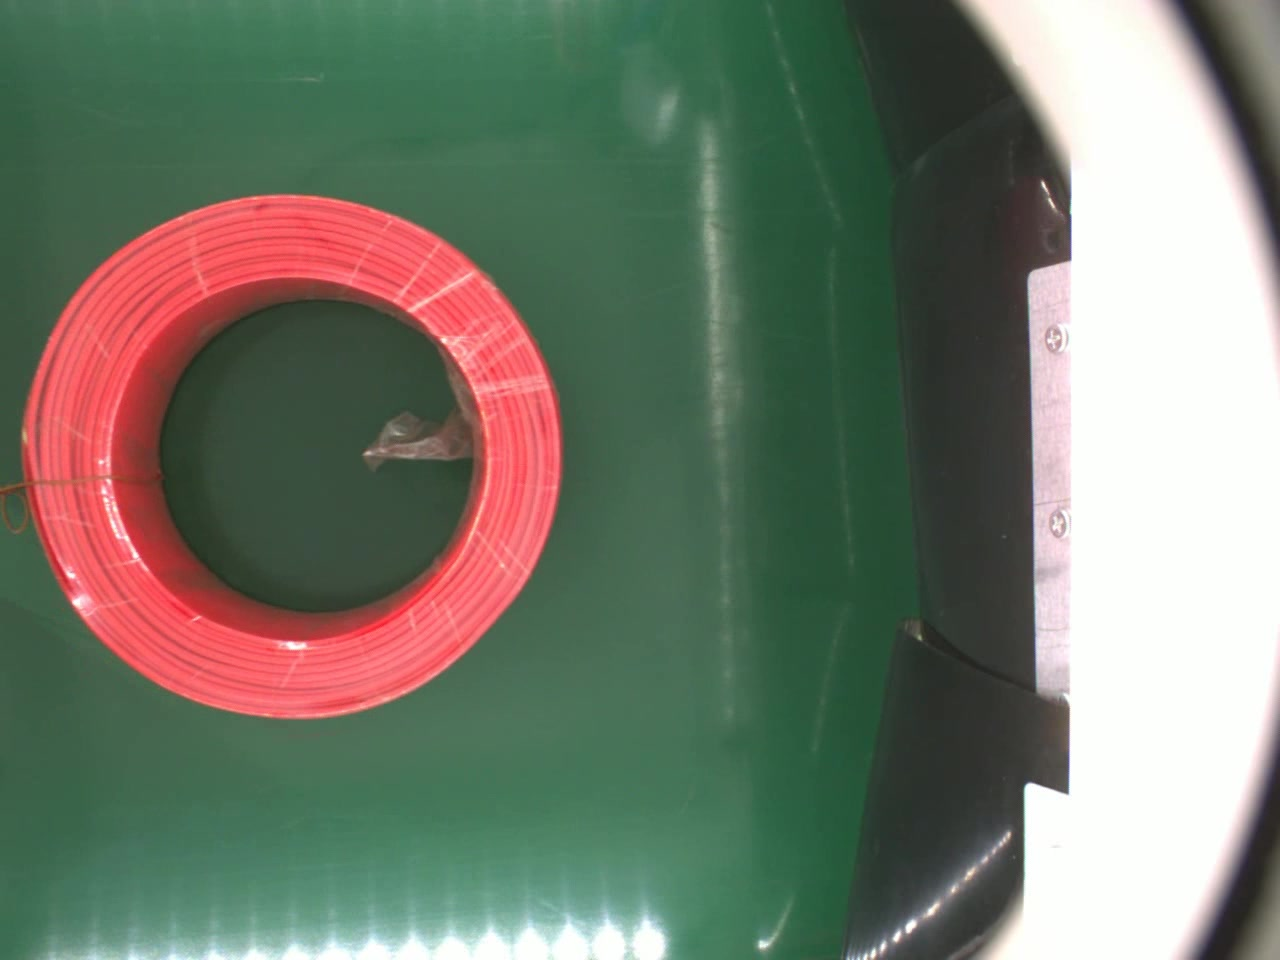red: (18, 190, 562, 721)
